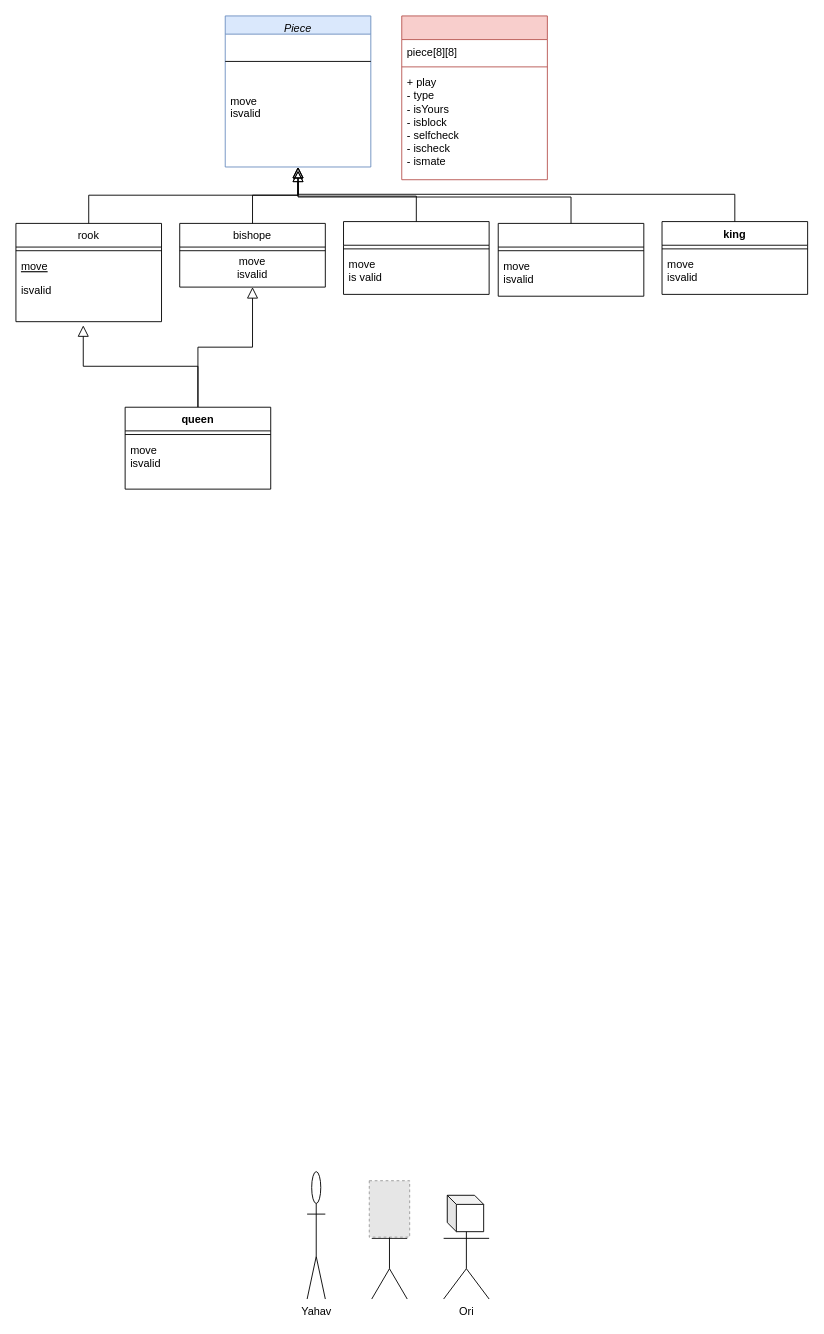
This 824x1334 diagram has some shape labels left out. Grey dashed boxes stand in for pictures. The shapes that lost their labels are listed below. From the top down, each one's box as (x1, y1, x2, y2) in pixels, then its label:
(401, 15, 547, 180): menger
(343, 221, 489, 294): pawn
(497, 222, 644, 296): knight
(371, 1207, 407, 1299): Asraf
